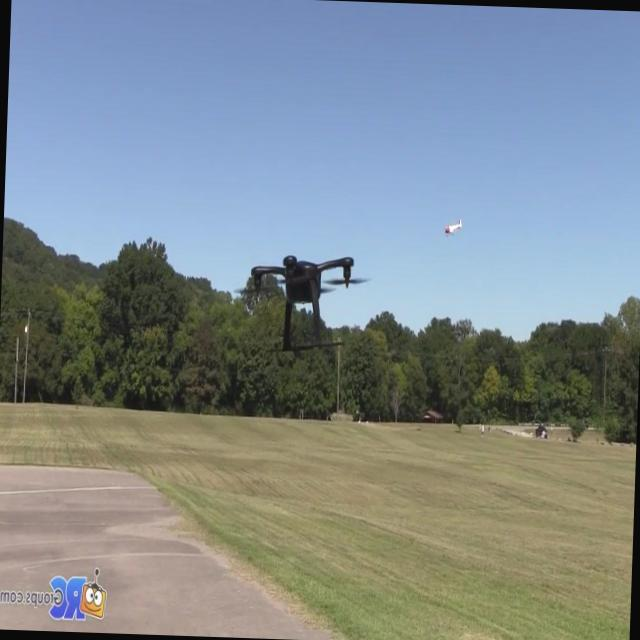drone: (245, 248, 355, 368)
